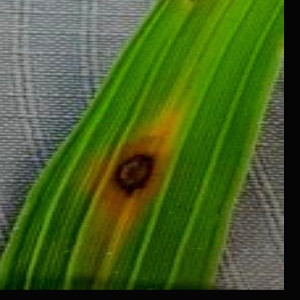Bacterial_Leaf_Blight: (102, 145, 167, 206)
